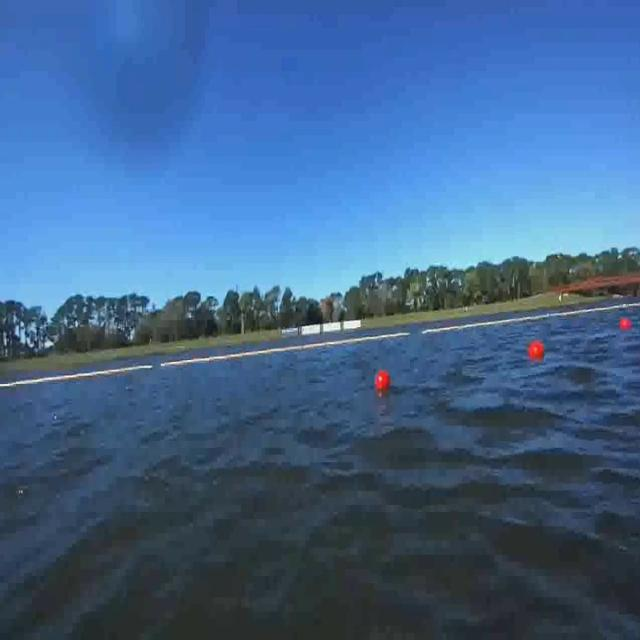red-buoy: (531, 342, 548, 362), (377, 372, 391, 391), (620, 319, 632, 330)
